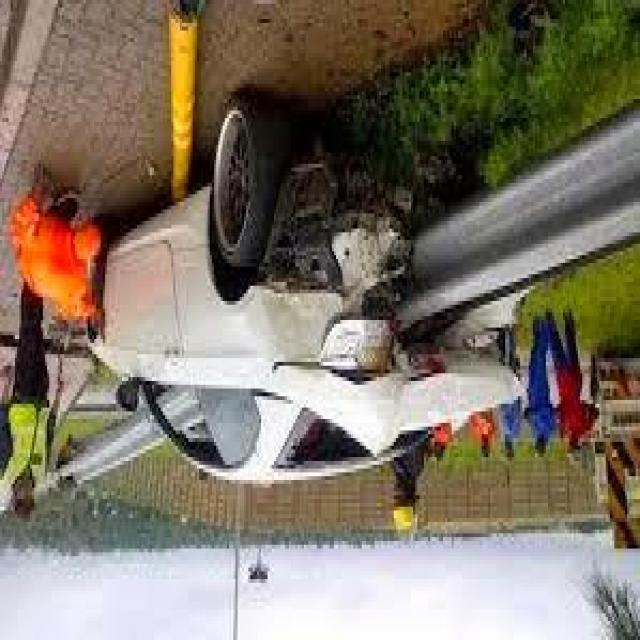severe: (79, 91, 520, 503)
